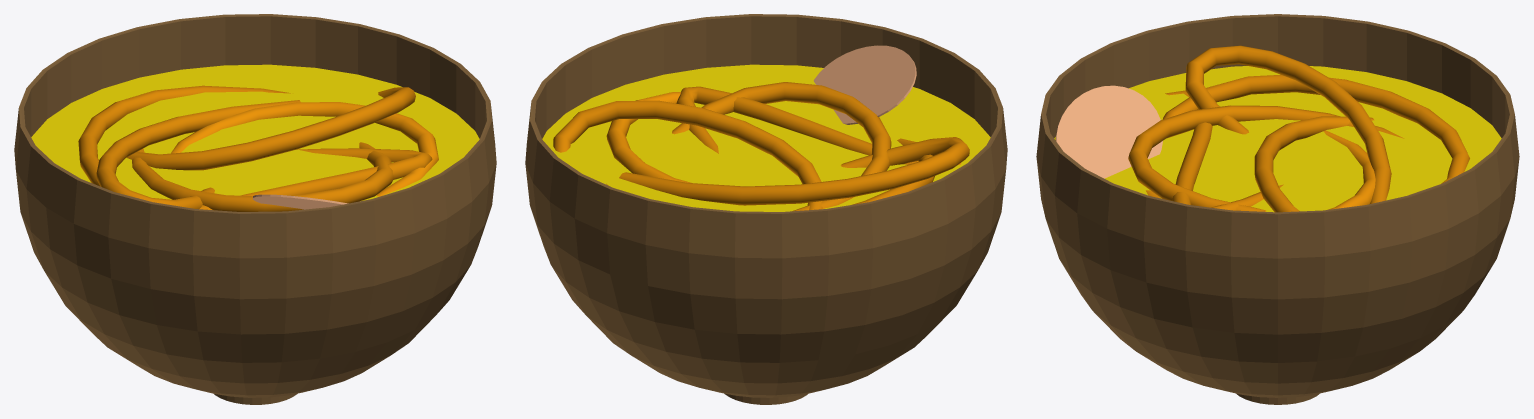
Rendered from Ramen.fbx.
3 renders of one model, left to right at view 1: azimuth 30°, elevation 25°; view 2: azimuth 150°, elevation 25°; view 3: azimuth 270°, elevation 25°, orthographic.
Visible parts, largest first — view 1: Sphere, BezierCurve.005, BezierCurve.003, BezierCurve.004, BezierCurve.002, BezierCurve.001, BezierCurve, Cylinder; view 2: Sphere, BezierCurve.004, BezierCurve.005, Cylinder, BezierCurve.003, BezierCurve, BezierCurve.002, BezierCurve.001; view 3: Sphere, Cylinder, BezierCurve.004, BezierCurve.001, BezierCurve.003, BezierCurve.005, BezierCurve, BezierCurve.002.
Boxes of the visible parts, x1=… form: Sphere: x1=14, y1=14, x2=496, y2=404; BezierCurve.005: x1=126, y1=87, x2=415, y2=170; BezierCurve.003: x1=132, y1=142, x2=393, y2=211; BezierCurve.004: x1=96, y1=100, x2=300, y2=208; BezierCurve.002: x1=171, y1=102, x2=438, y2=196; BezierCurve.001: x1=78, y1=85, x2=290, y2=186; BezierCurve: x1=199, y1=148, x2=432, y2=209; Cylinder: x1=252, y1=194, x2=348, y2=209; Sphere: x1=525, y1=14, x2=1007, y2=404; BezierCurve.004: x1=619, y1=137, x2=969, y2=205; BezierCurve.005: x1=553, y1=100, x2=822, y2=209; Cylinder: x1=813, y1=45, x2=916, y2=124; BezierCurve.003: x1=672, y1=82, x2=891, y2=211; BezierCurve: x1=676, y1=86, x2=961, y2=164; BezierCurve.002: x1=606, y1=92, x2=692, y2=183; BezierCurve.001: x1=606, y1=138, x2=934, y2=204; Sphere: x1=1036, y1=14, x2=1519, y2=404; Cylinder: x1=1055, y1=85, x2=1162, y2=178; BezierCurve.004: x1=1185, y1=45, x2=1391, y2=203; BezierCurve.001: x1=1162, y1=74, x2=1469, y2=183; BezierCurve.003: x1=1128, y1=105, x2=1404, y2=211; BezierCurve.005: x1=1254, y1=116, x2=1374, y2=212; BezierCurve: x1=1165, y1=90, x2=1283, y2=210; BezierCurve.002: x1=1146, y1=130, x2=1375, y2=209.
Size of the model in its own units: 202 by 125 by 202.
